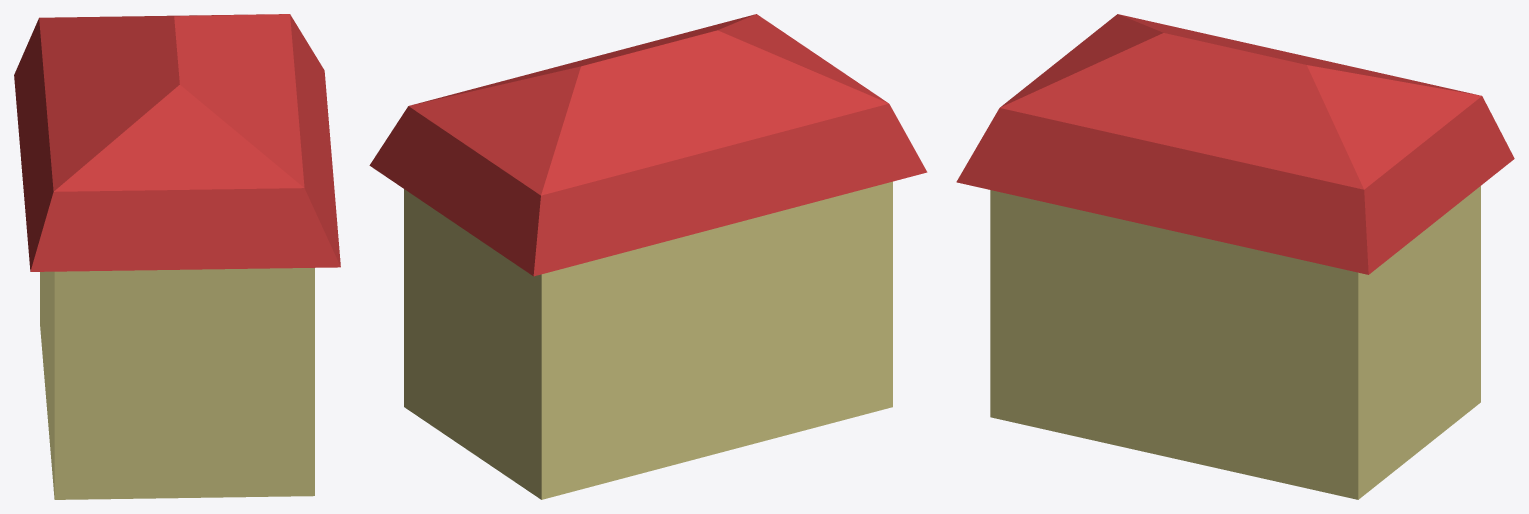
3 views of the same model, side by side, from view 1: azimuth 30°, elevation 25°; view 2: azimuth 150°, elevation 25°; view 3: azimuth 270°, elevation 25° (orthographic).
Parts seen in each view (by area): view 1: group_5, group_3, group_4; view 2: group_5, group_3, group_4; view 3: group_5, group_3, group_4.
Boxes of the visible parts, x1,y1,x2,y2 form: group_5: (40,14,314,499); group_3: (14,14,340,271); group_4: (14,14,340,271); group_5: (404,181,892,499); group_3: (369,14,927,276); group_4: (370,105,926,275); group_5: (990,186,1480,499); group_3: (956,14,1514,274); group_4: (1308,95,1513,274).
Size of the model in its own units: 14.77 by 16.7 by 11.9.
